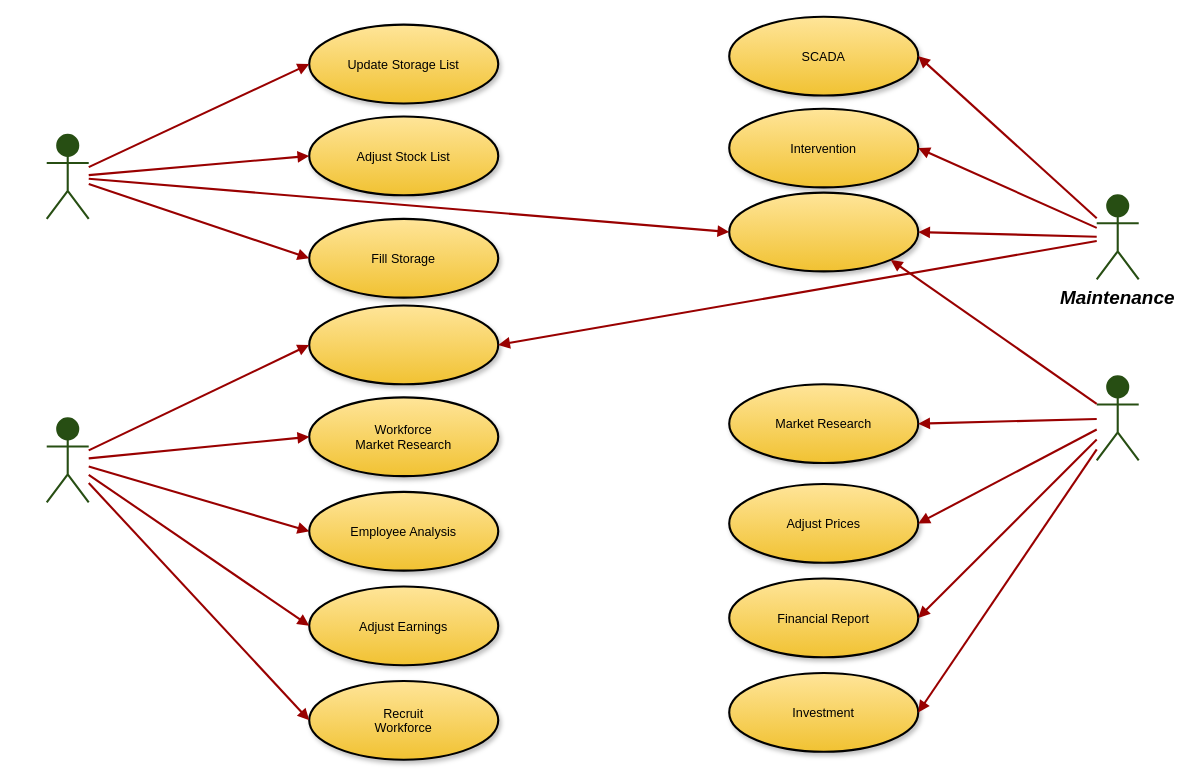
Image size: 1192x777. Some labels were removed from this diagram. Each missing label, with the centre of its shape:
"Form Order List" belongs at (x=824, y=233).
"Form Request Criteria" belongs at (x=404, y=346).
"HR" belongs at (x=67, y=460).
"Office of Sales" belongs at (x=1117, y=418).
"Storage Deparmnet" belongs at (x=67, y=176).
